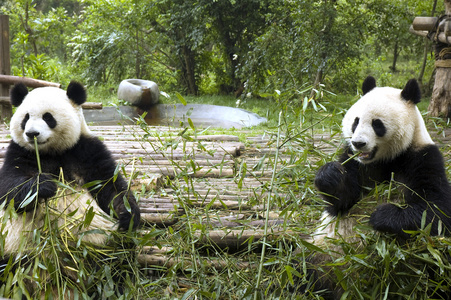panda: (301, 70, 451, 279), (8, 74, 134, 285)
